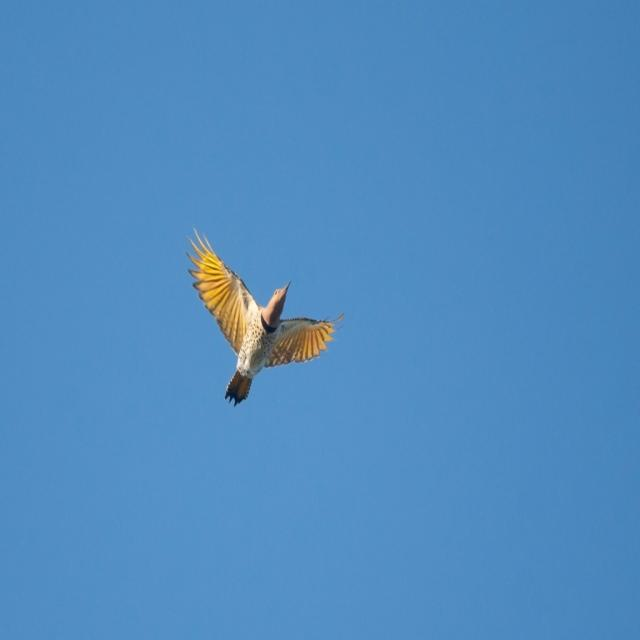bird: (189, 230, 350, 409)
